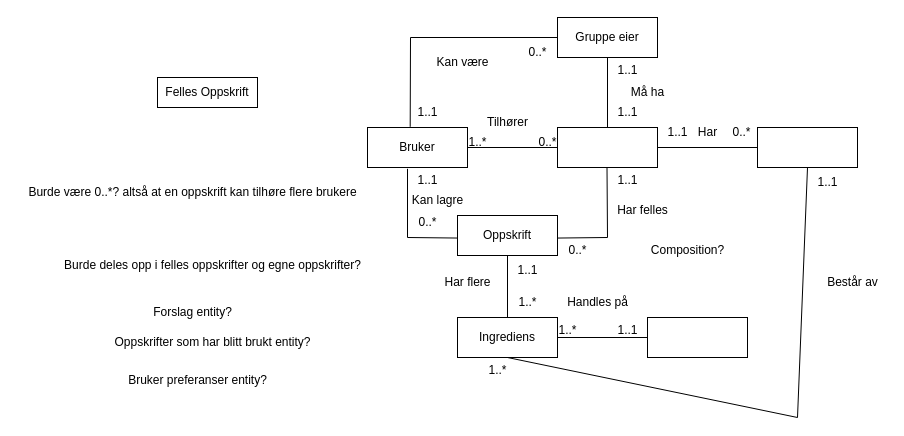
The diagram is 904 pixels wide and 436 high, and some of its shapes have lost their labels. The centre of each missing label's shape, as x and y in pixels:
"Butikk" belongs at (x=697, y=337).
"Gruppe" belongs at (x=607, y=147).
"Handleliste" belongs at (x=807, y=147).
